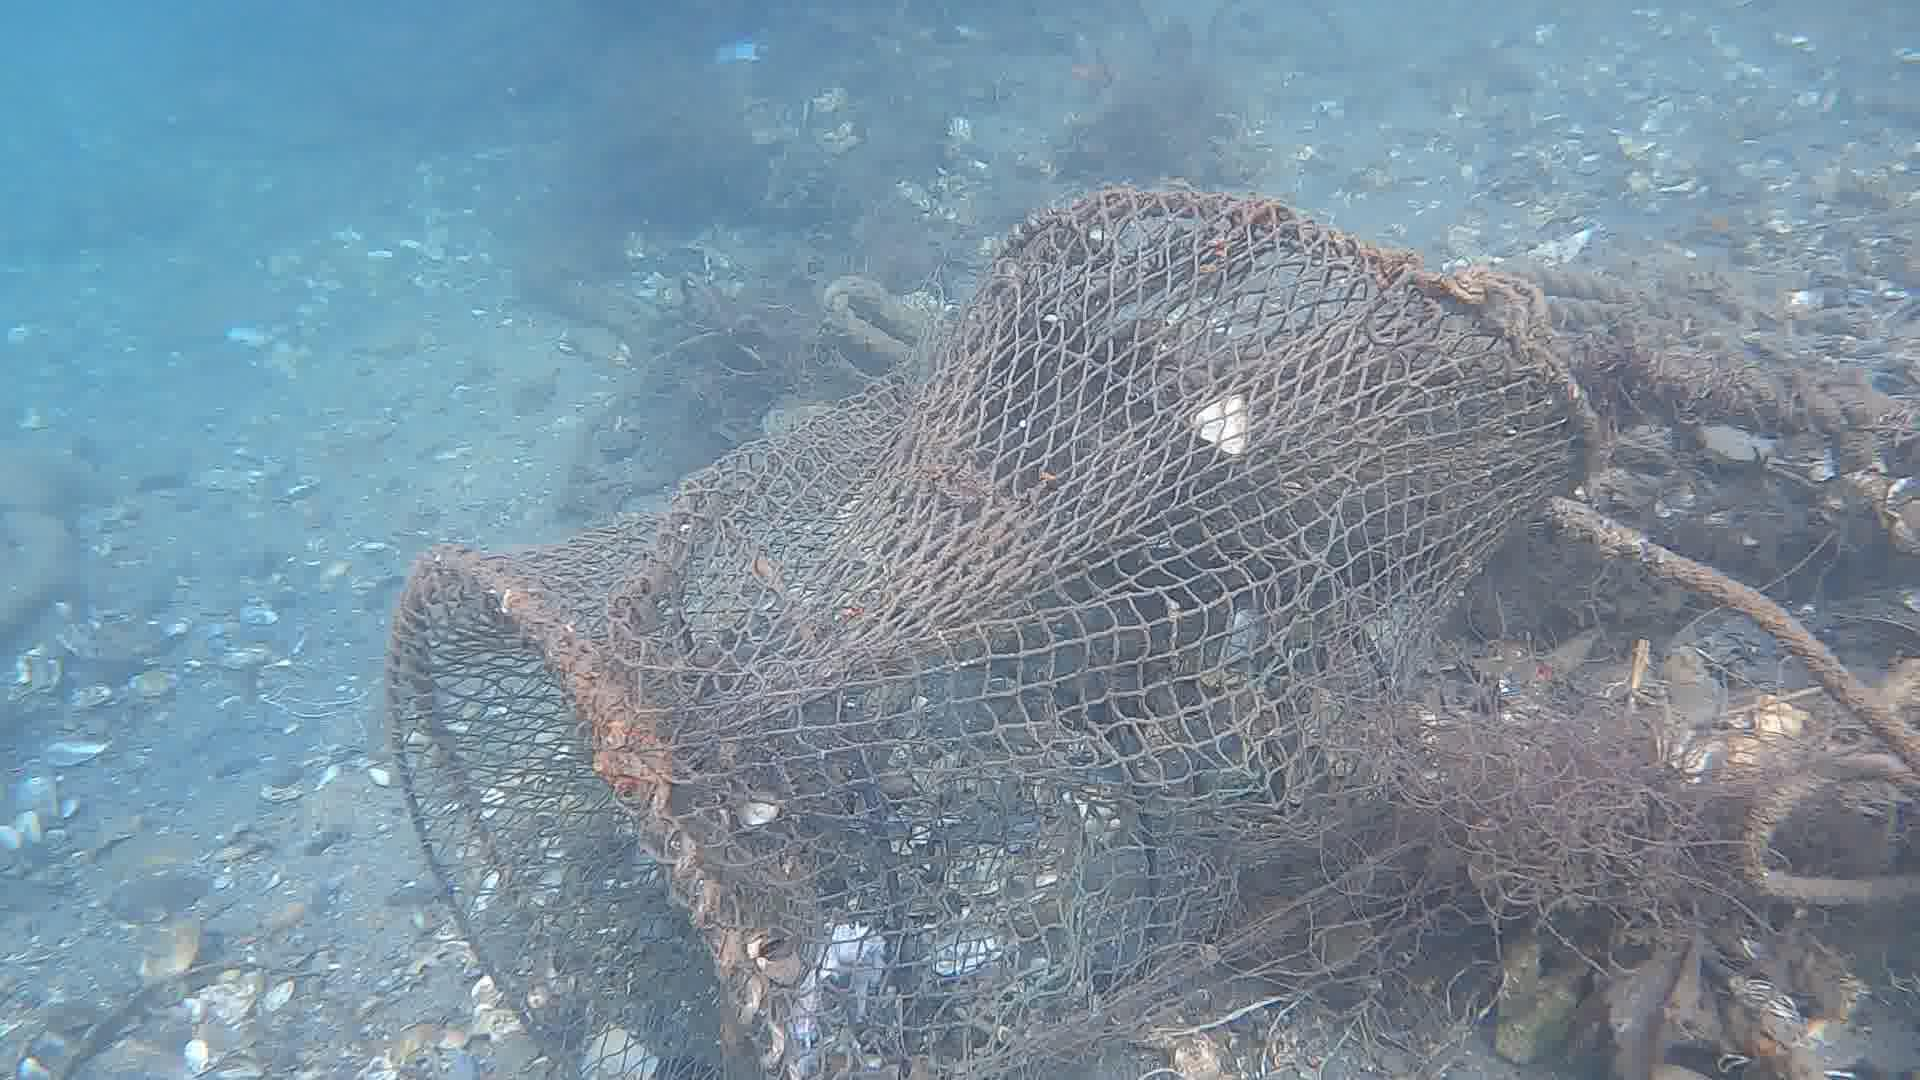bundle of ropes: (1501, 261, 1642, 330)
spring fish trap: (386, 177, 1604, 1080)
